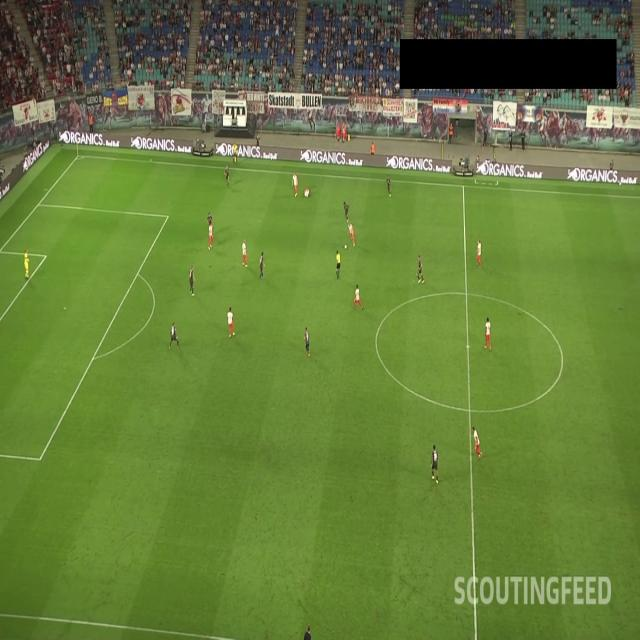ball: (344, 243, 348, 250)
player: (431, 444, 439, 485), (483, 316, 492, 351), (169, 320, 179, 351), (416, 253, 425, 286), (227, 306, 236, 338), (473, 425, 481, 461), (354, 285, 364, 312), (347, 222, 357, 248), (304, 327, 312, 358), (291, 170, 298, 200), (208, 223, 215, 252), (24, 248, 30, 280), (242, 238, 248, 270), (342, 200, 350, 224), (189, 265, 195, 296), (207, 211, 214, 237), (385, 173, 392, 198), (259, 251, 265, 280), (224, 165, 231, 189), (476, 240, 482, 268), (303, 186, 310, 198)
